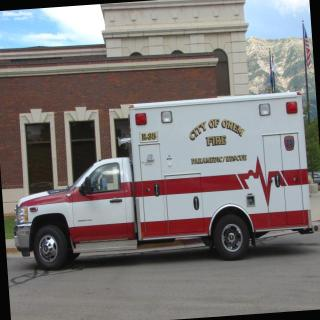Ambulance: (0, 86, 320, 302)
